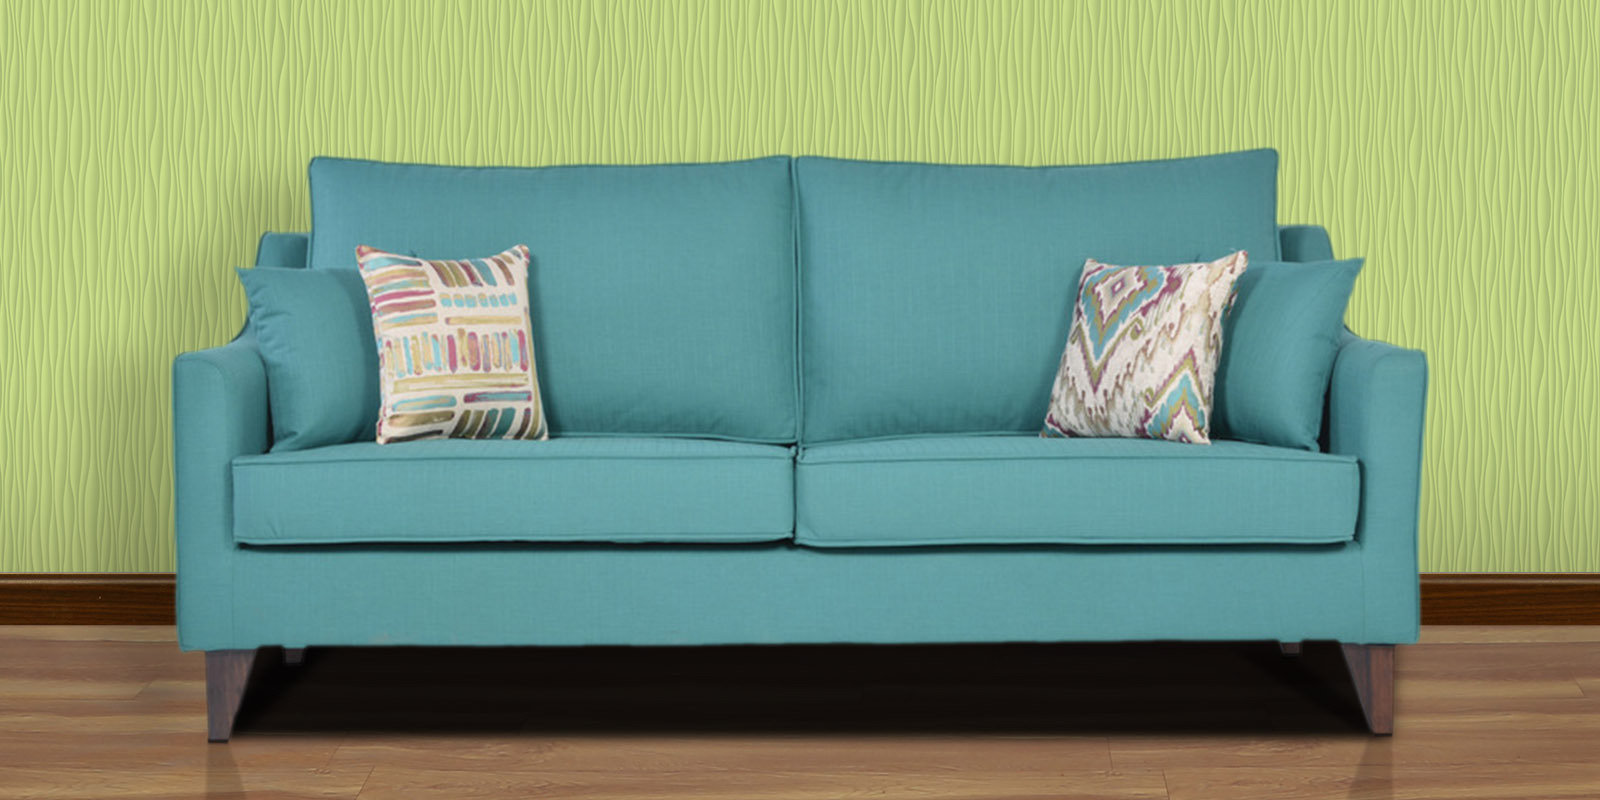Ithaca Impulse Three Seater Sofa with Throw Cushions in Jade Colour by Urban Liv: (163, 137, 1453, 769)
